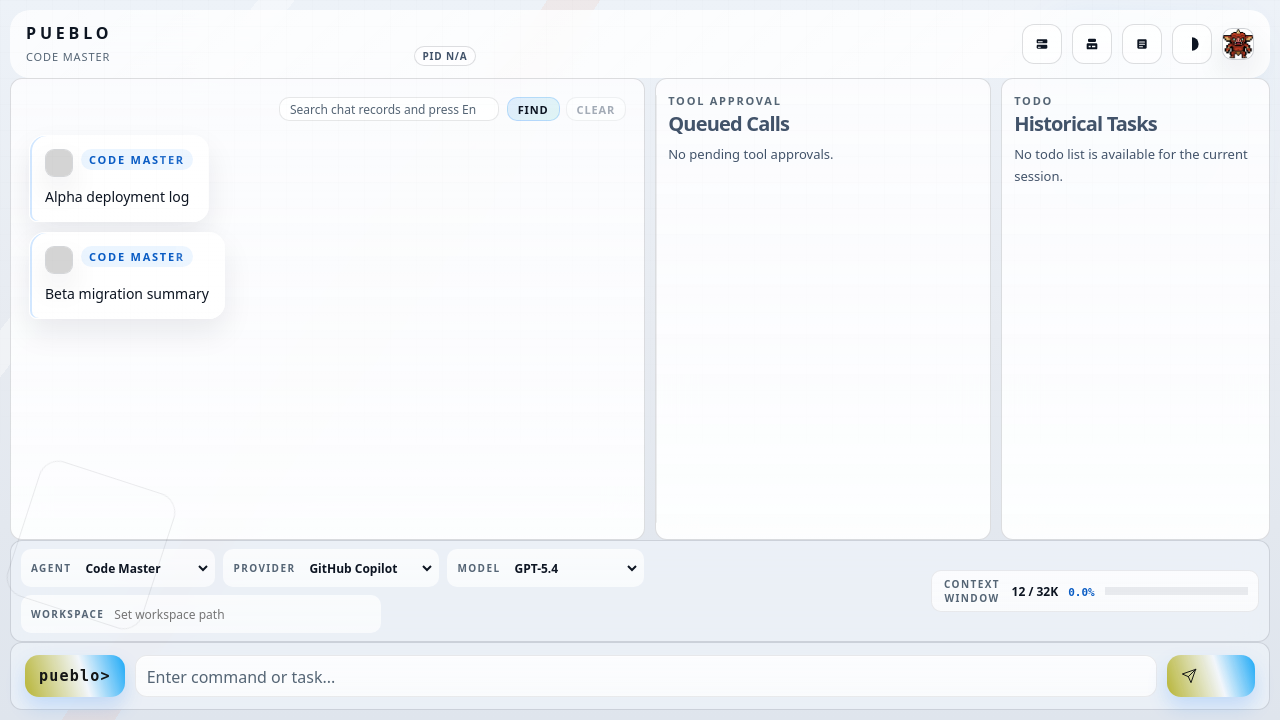
Test: Desktop Output Summary Rendering › filters transcript records after pressing Enter in the transcript search bar
Type "beta" into the search field named "Search transcript".
click(389, 109); type("beta")  # box [279, 97, 499, 121]
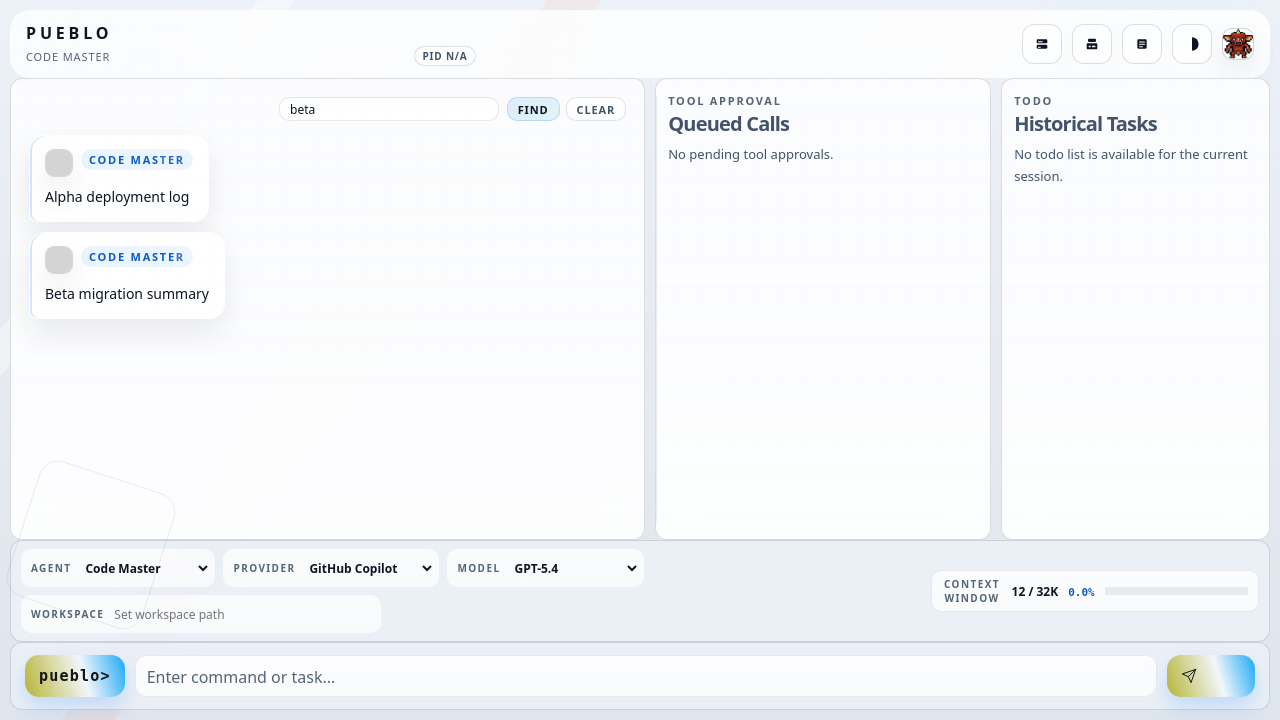
Submit the form named "Search transcript", box [279, 97, 626, 121]
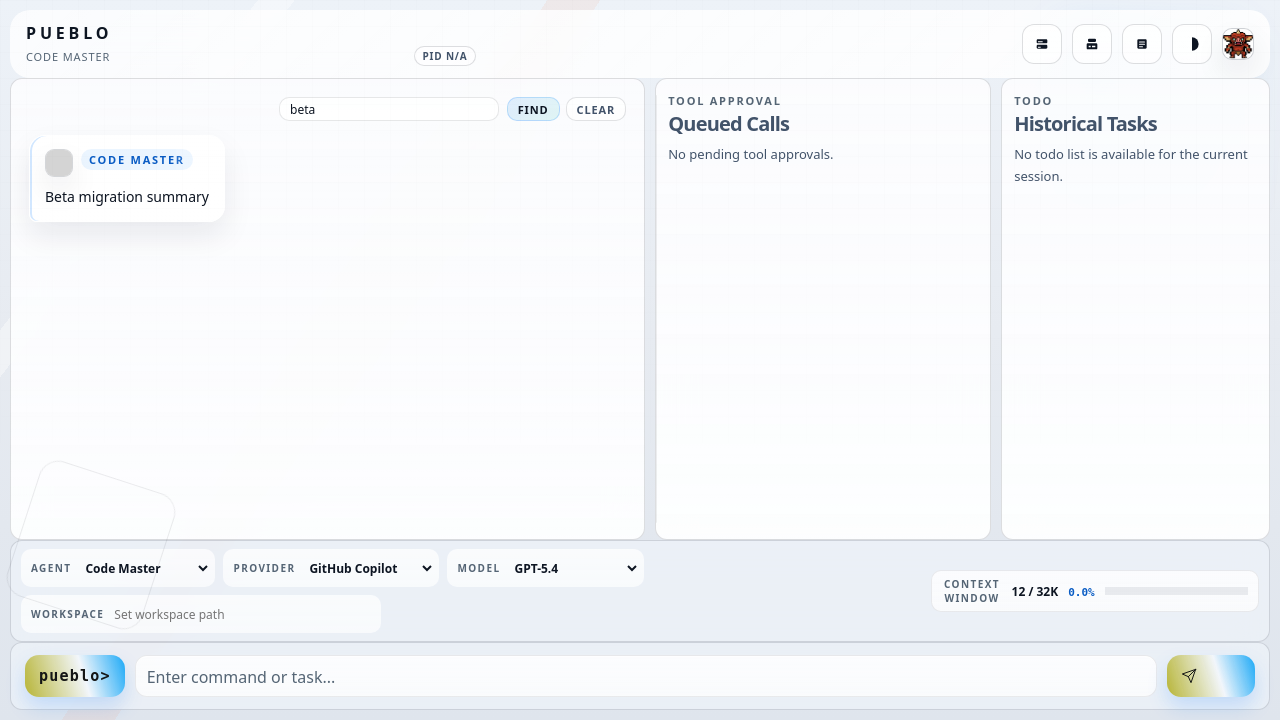
Check: the text "Beta migration summary" is shown, box [45, 185, 209, 208]
Check: the text "Alpha deployment log" is gone
